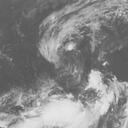cyclone: (39, 21, 103, 91)
